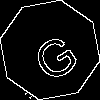G: (25, 25, 82, 85)
